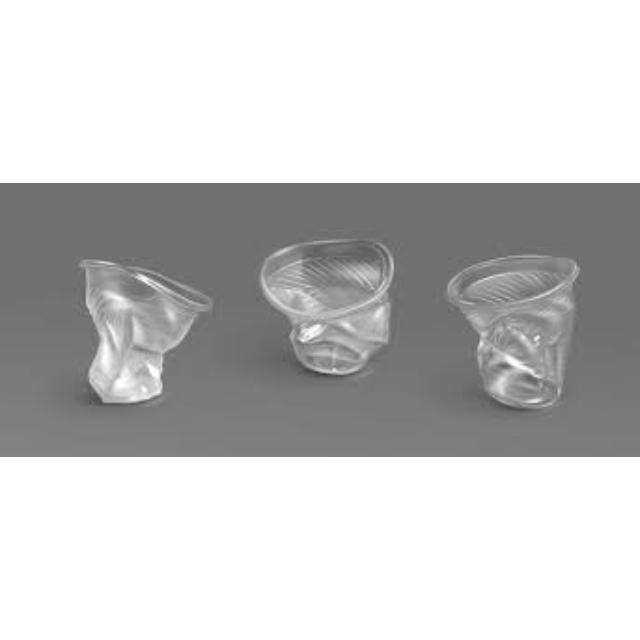Plastico descartable: (448, 255, 580, 408), (80, 259, 212, 403), (260, 240, 394, 374)
